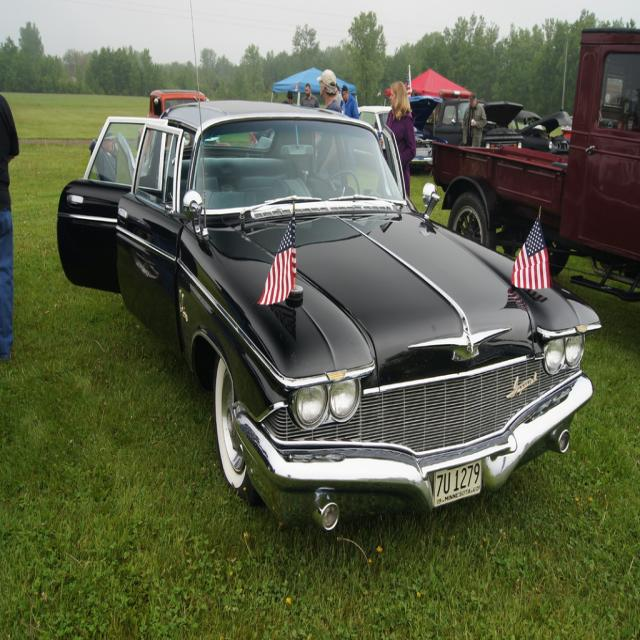car: (48, 0, 603, 539)
